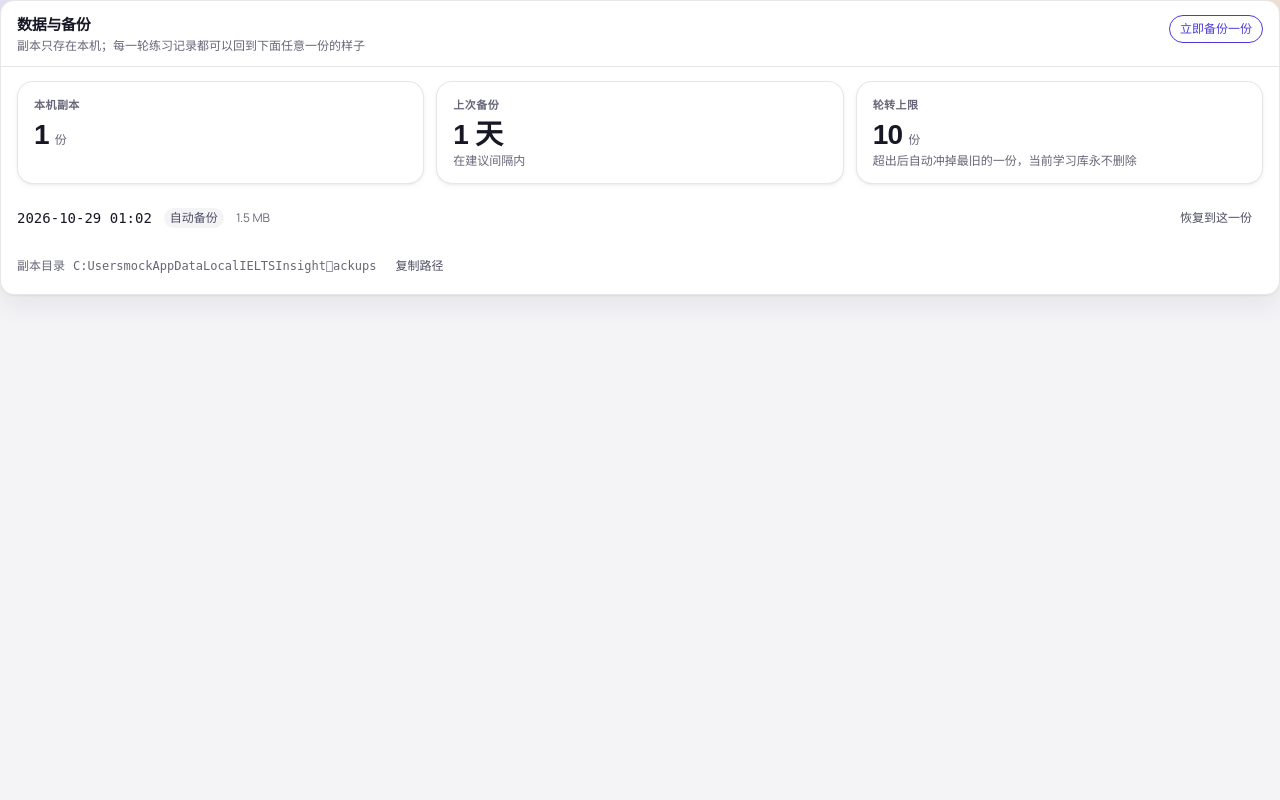
Test: 数据与备份（§14.8） › 关闭弹窗 = 取消，一个写请求都不发
This screenshot has width=1280, height=800.
Expected: the list named "本机快照" is shown, [17,196,1263,240]
Click the button "恢复到这一份" at [1216, 218], box [1169,204,1263,232]
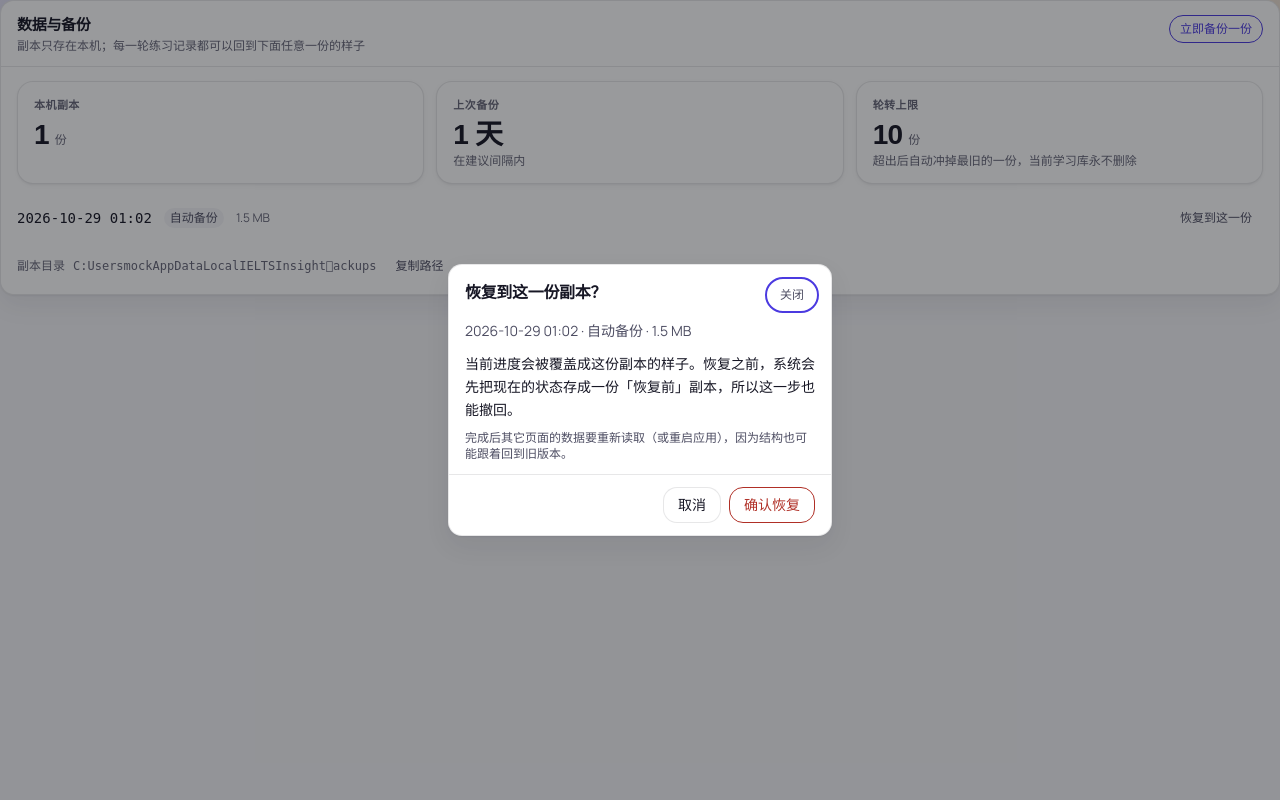
Click the button "取消" at [692, 505], box [663,487,721,523]
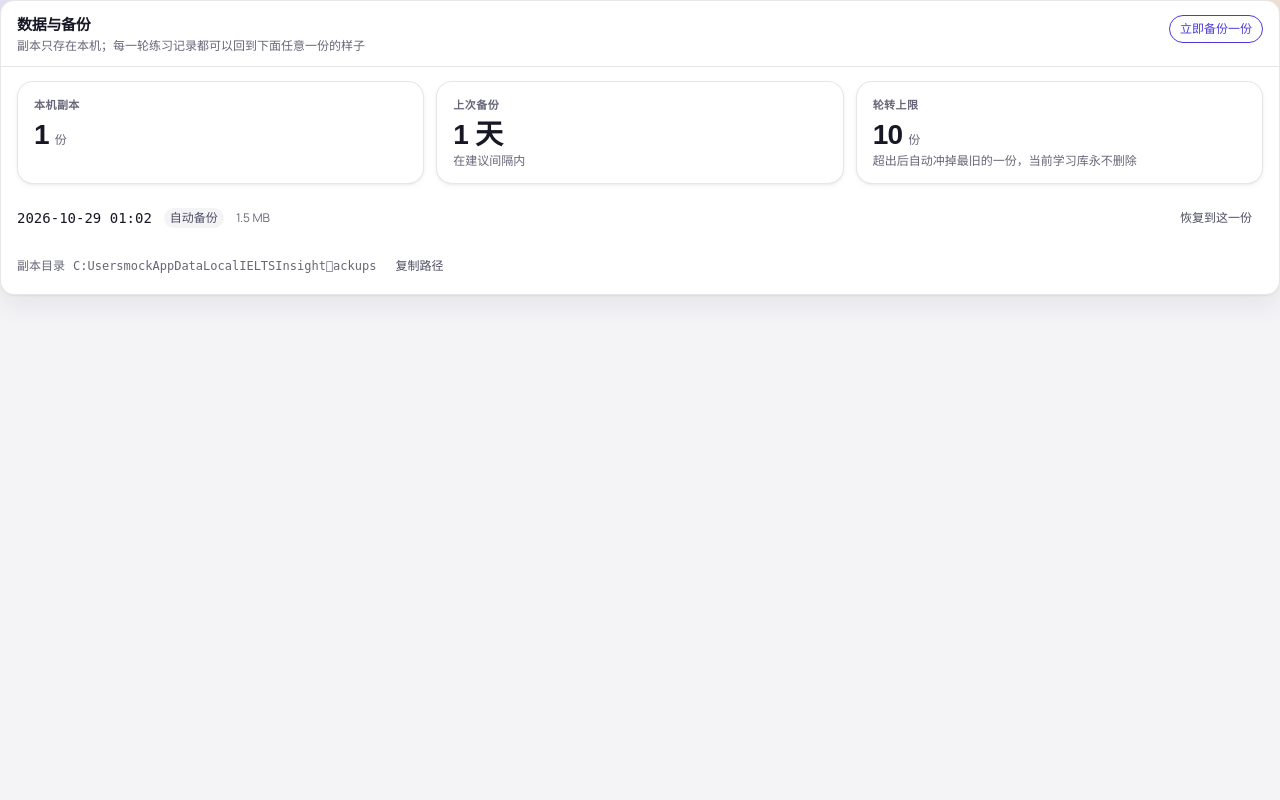
Expected: the dialog is gone
